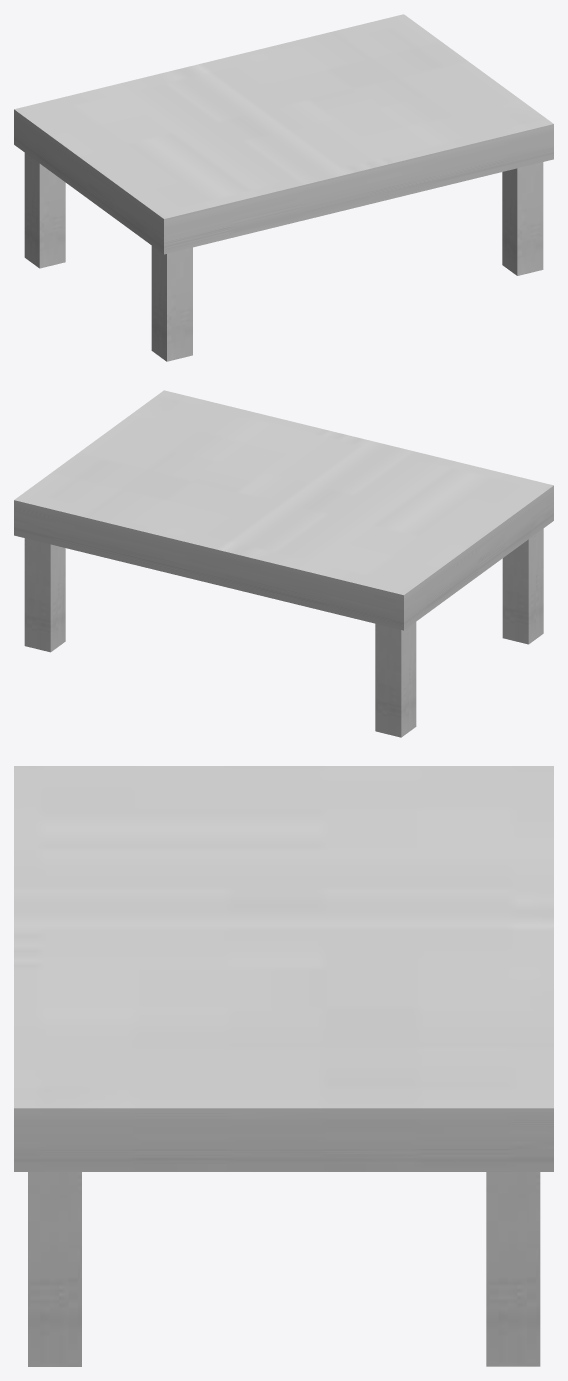
Rendered from mejaKecil_putih.gltf.
3 views of the same model, one above another, from view 1: azimuth 30°, elevation 25°; view 2: azimuth 150°, elevation 25°; view 3: azimuth 270°, elevation 25° (orthographic). The views are drawn at different scales.
Visible parts, largest first — view 1: Cube, Cube.003, Cube.001, Cube.004; view 2: Cube, Cube.004, Cube.002, Cube.003; view 3: Cube, Cube.002, Cube.001.
Part boxes in pixels (x1=…): Cube: x1=14, y1=14, x2=553, y2=254; Cube.003: x1=151, y1=246, x2=192, y2=361; Cube.001: x1=502, y1=162, x2=543, y2=275; Cube.004: x1=24, y1=153, x2=65, y2=268; Cube: x1=14, y1=390, x2=553, y2=630; Cube.004: x1=375, y1=622, x2=416, y2=737; Cube.002: x1=24, y1=538, x2=65, y2=652; Cube.003: x1=502, y1=528, x2=543, y2=644; Cube: x1=14, y1=766, x2=553, y2=1171; Cube.002: x1=486, y1=1172, x2=540, y2=1366; Cube.001: x1=28, y1=1172, x2=81, y2=1366.
Bounding box in the file's own units: 6 × 2.16 × 4.
Materials: 5 (5 with a texture image).
